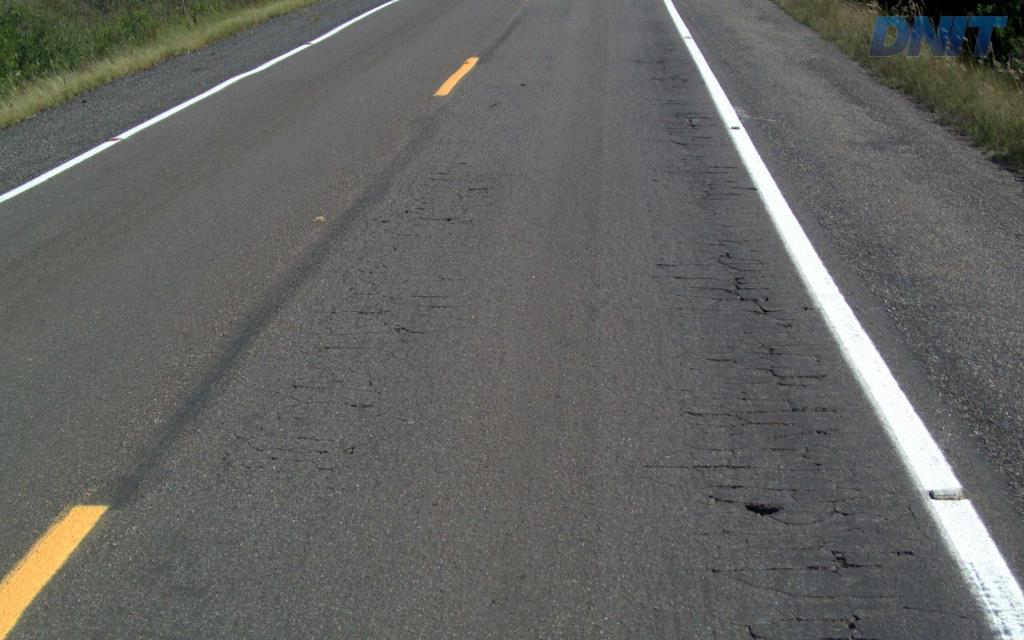crack: (708, 276, 776, 316), (818, 609, 883, 639), (805, 549, 867, 576), (743, 501, 803, 525)
